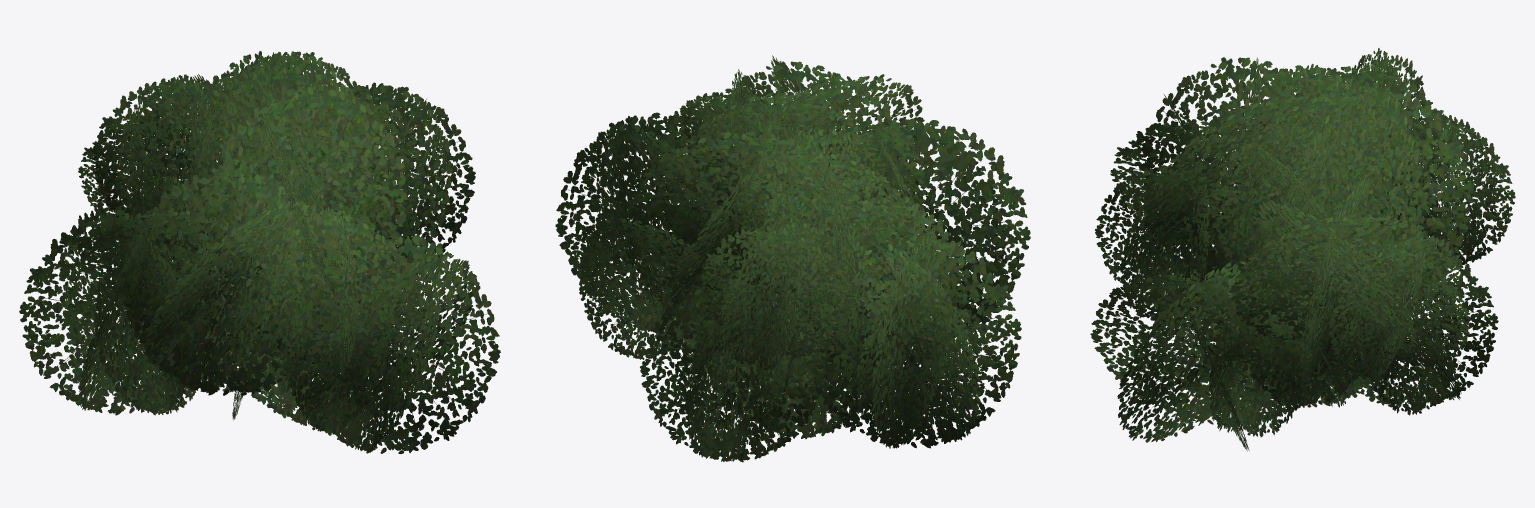
File: shrub_150.glb
The picture shows the model from 3 angles, left to right: view 1: azimuth 30°, elevation 25°; view 2: azimuth 150°, elevation 25°; view 3: azimuth 270°, elevation 25°; orthographic projection.
Visible parts, largest first — view 1: shrub_150; view 2: shrub_150; view 3: shrub_150.
Part boxes in pixels (x1=…): shrub_150: x1=19, y1=51, x2=500, y2=453; shrub_150: x1=555, y1=55, x2=1030, y2=462; shrub_150: x1=1090, y1=48, x2=1515, y2=451.
Size of what is drawn, in the model's own units: 2.1 by 1.61 by 1.83.
Materials: 1 (1 with a texture image).
